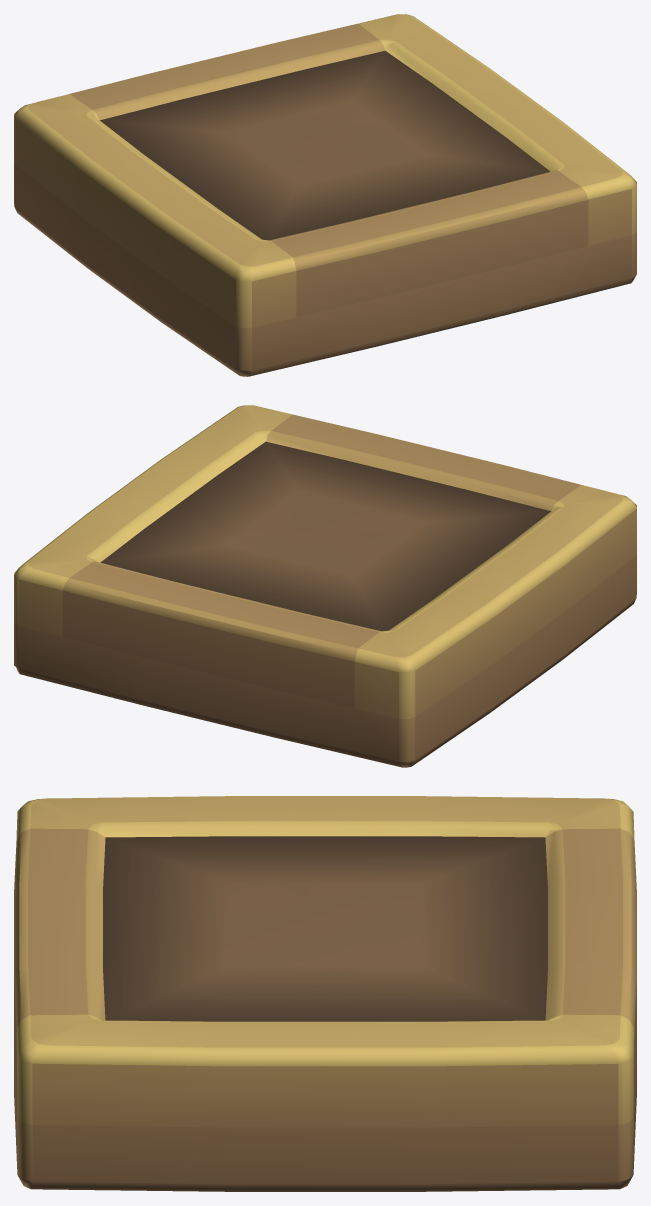
File: plant_box1_LOD_setup.fbx
The picture shows the model from 3 angles, top to bottom: view 1: azimuth 30°, elevation 25°; view 2: azimuth 150°, elevation 25°; view 3: azimuth 270°, elevation 25°; orthographic projection. The views are drawn at different scales.
Visible parts, largest first — view 1: plant_box1_LOD0; view 2: plant_box1_LOD0; view 3: plant_box1_LOD0.
Part boxes in pixels (box(x1,y1,x2,y2)): plant_box1_LOD0: box(14, 14, 636, 376); plant_box1_LOD0: box(14, 405, 636, 767); plant_box1_LOD0: box(14, 796, 636, 1191).
Size of what is drawn, in the model's own units: 203 by 51.38 by 202.
